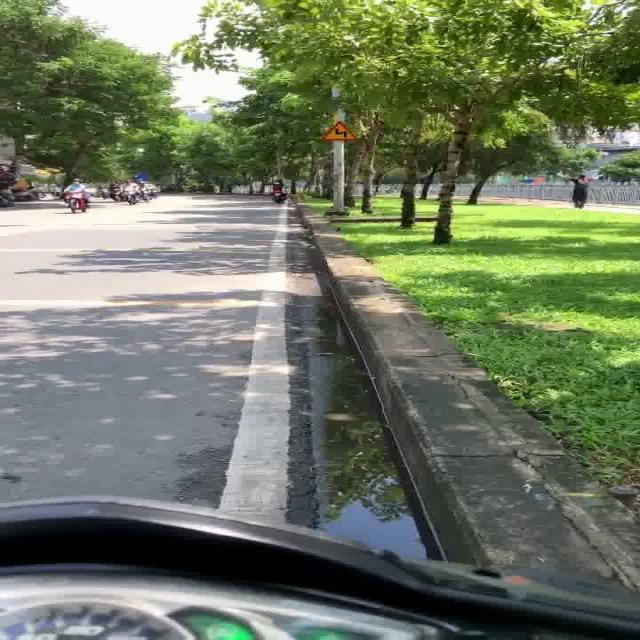Bien bao nhieu cho ngoat nguy hiem lien tiep: (316, 118, 366, 142)
